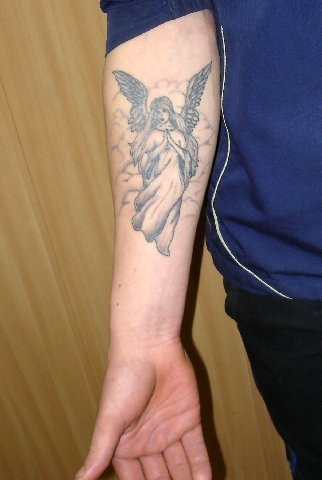tatu1_angel: (106, 60, 217, 258)
